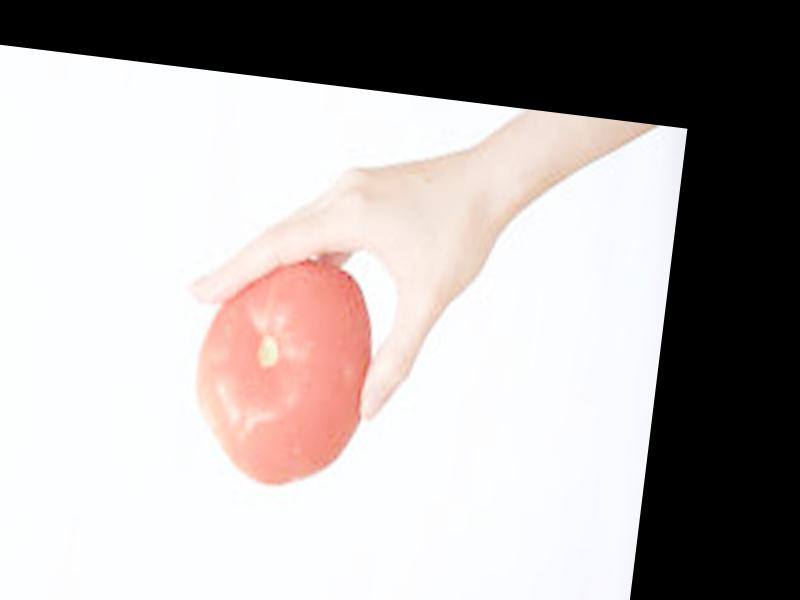Tomato: (183, 253, 380, 494)
